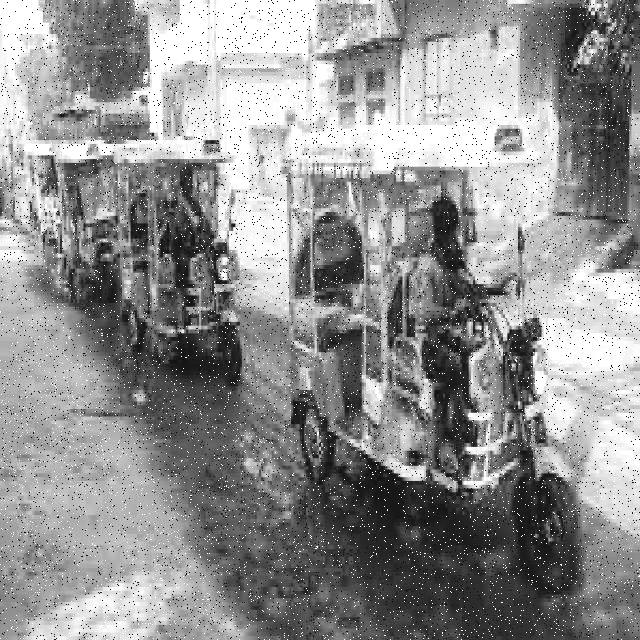Toto: (286, 123, 580, 582), (113, 133, 244, 381)
